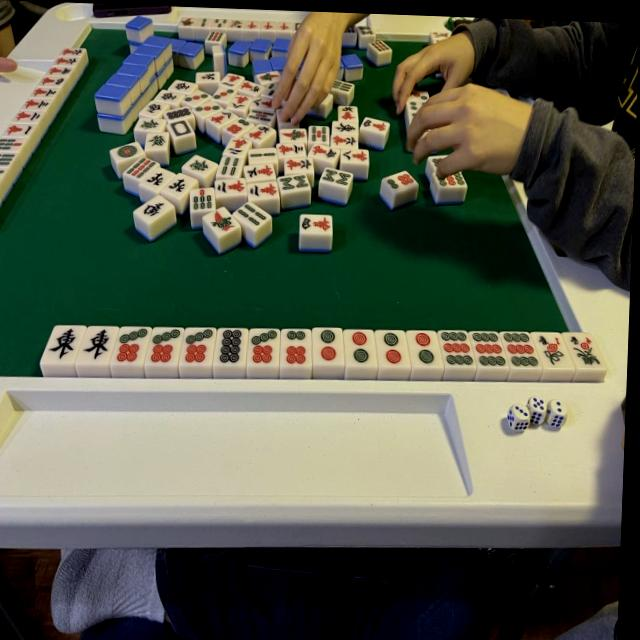east: (46, 326, 79, 364), (83, 328, 113, 365)
ff4: (569, 332, 602, 370), (536, 331, 567, 368)
t2: (378, 330, 407, 368), (410, 332, 437, 368), (346, 331, 372, 367), (316, 329, 340, 364)
t6: (283, 330, 311, 368)
t7: (115, 326, 147, 364), (149, 326, 180, 364), (183, 327, 214, 365), (249, 327, 278, 365)
t8: (217, 329, 243, 366)
t9: (502, 332, 537, 369), (471, 331, 505, 368), (440, 331, 473, 368)
